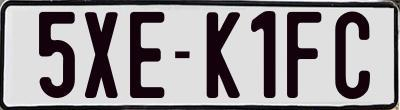1: (248, 10, 274, 101)
5: (37, 11, 79, 101)
C: (332, 11, 368, 99)
E: (128, 11, 167, 101)
F: (285, 12, 323, 99)
K: (205, 12, 238, 98)
X: (84, 12, 120, 100)
